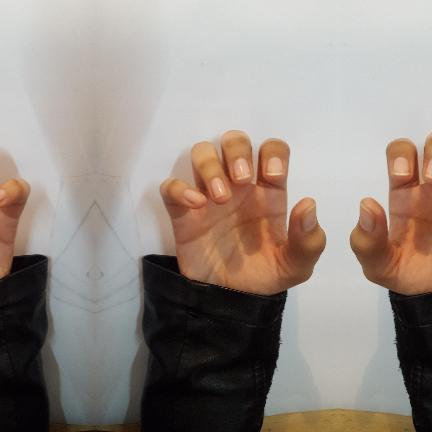Nail: (300, 201, 315, 231), (359, 201, 374, 231), (210, 177, 228, 199), (232, 159, 250, 180), (265, 158, 282, 176), (392, 158, 409, 176), (181, 189, 200, 205), (424, 159, 432, 179), (0, 189, 7, 202)
